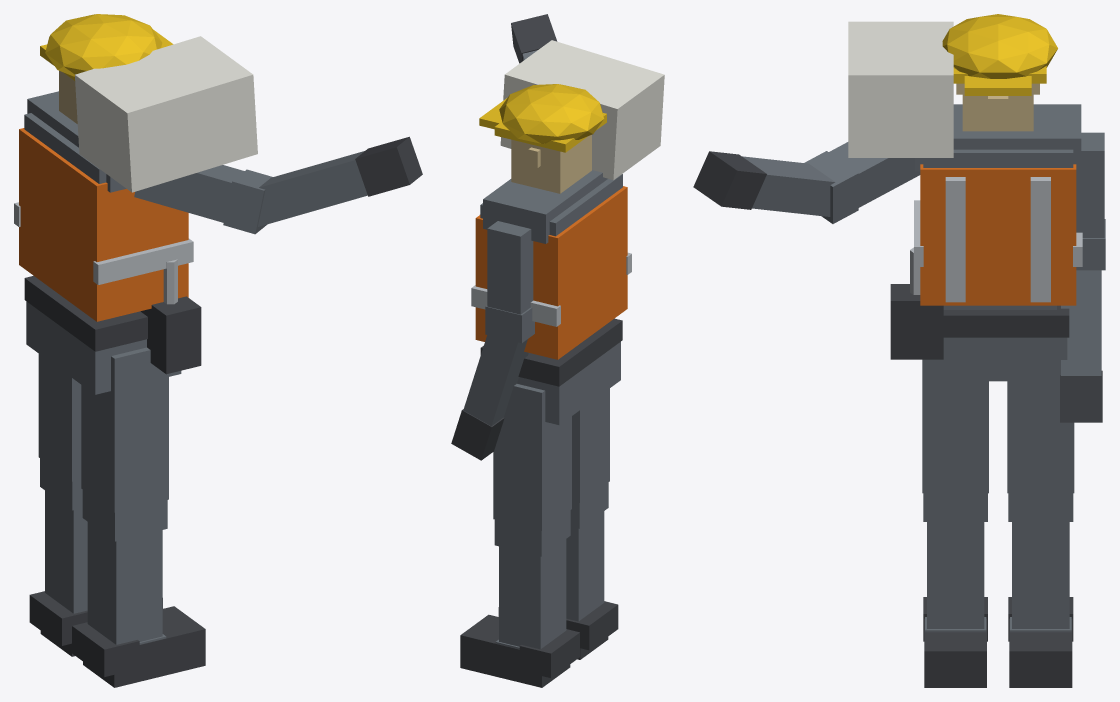
The model's file is worker_cement.glb.
3 views of the same model, side by side, from view 1: azimuth 30°, elevation 25°; view 2: azimuth 150°, elevation 25°; view 3: azimuth 270°, elevation 25° (orthographic). The views are drawn at different scales.
Visible parts, largest first — view 1: Worker_Body, Worker_LegR, Worker_CementBag, Worker_ArmR, Worker_LegL; view 2: Worker_Body, Worker_LegL, Worker_ArmL, Worker_CementBag, Worker_LegR, Worker_ArmR; view 3: Worker_Body, Worker_LegR, Worker_LegL, Worker_CementBag, Worker_ArmR, Worker_ArmL.
Part boxes in pixels (<box>): Worker_Body: <box>14,14,201,394</box>; Worker_LegR: <box>72,347,205,687</box>; Worker_CementBag: <box>75,36,257,192</box>; Worker_ArmR: <box>134,136,422,234</box>; Worker_LegL: <box>29,354,162,656</box>; Worker_Body: <box>471,84,631,425</box>; Worker_LegL: <box>460,384,579,687</box>; Worker_ArmL: <box>451,221,534,460</box>; Worker_CementBag: <box>500,40,664,180</box>; Worker_LegR: <box>498,388,618,659</box>; Worker_ArmR: <box>511,14,557,63</box>; Worker_Body: <box>890,14,1082,381</box>; Worker_LegR: <box>922,359,988,687</box>; Worker_LegL: <box>1007,381,1074,687</box>; Worker_CementBag: <box>848,21,953,157</box>; Worker_ArmR: <box>693,142,920,223</box>; Worker_ArmL: <box>1060,132,1105,422</box>.
Size of the model in its own units: 0.6624 by 1.72 by 1.02.
